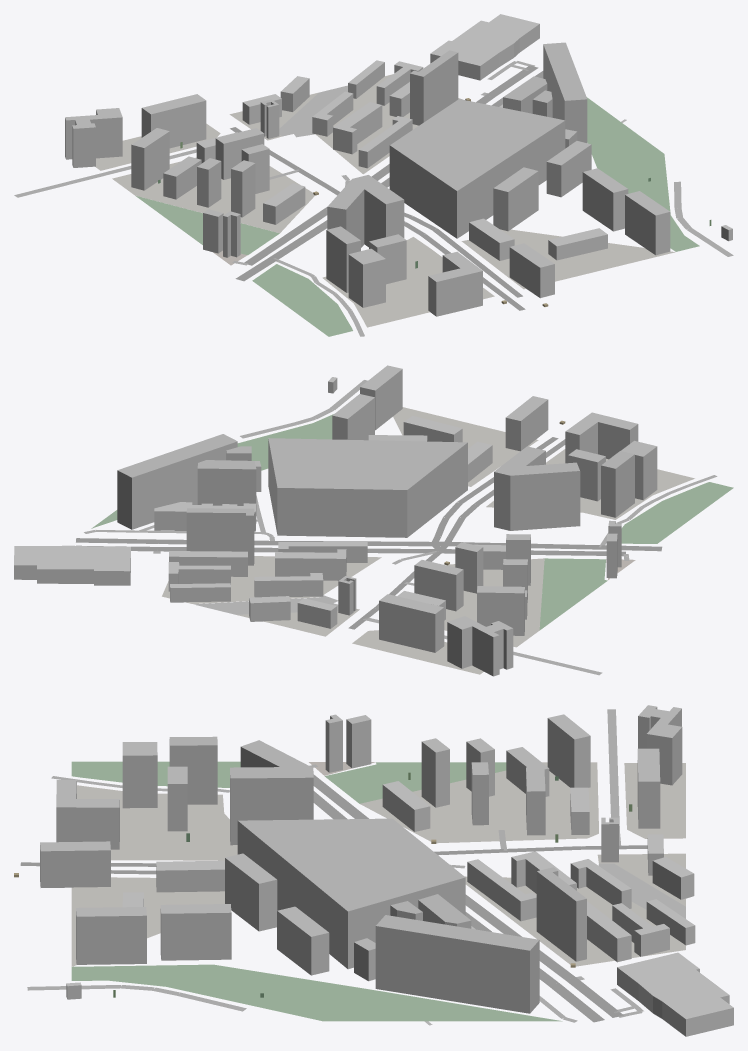
The picture shows the model from 3 angles, top to bottom: view 1: azimuth 30°, elevation 25°; view 2: azimuth 150°, elevation 25°; view 3: azimuth 270°, elevation 25°; orthographic projection. The views are drawn at different scales.
Bounding box in the file's own units: 632 × 60.94 × 586.
